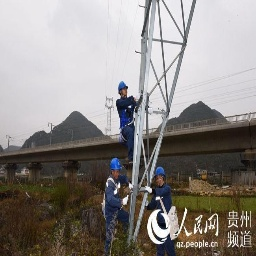helmet: (108, 158, 124, 174), (117, 76, 130, 94), (153, 166, 166, 182)
person: (99, 153, 126, 256), (151, 166, 174, 256), (115, 76, 138, 165)
